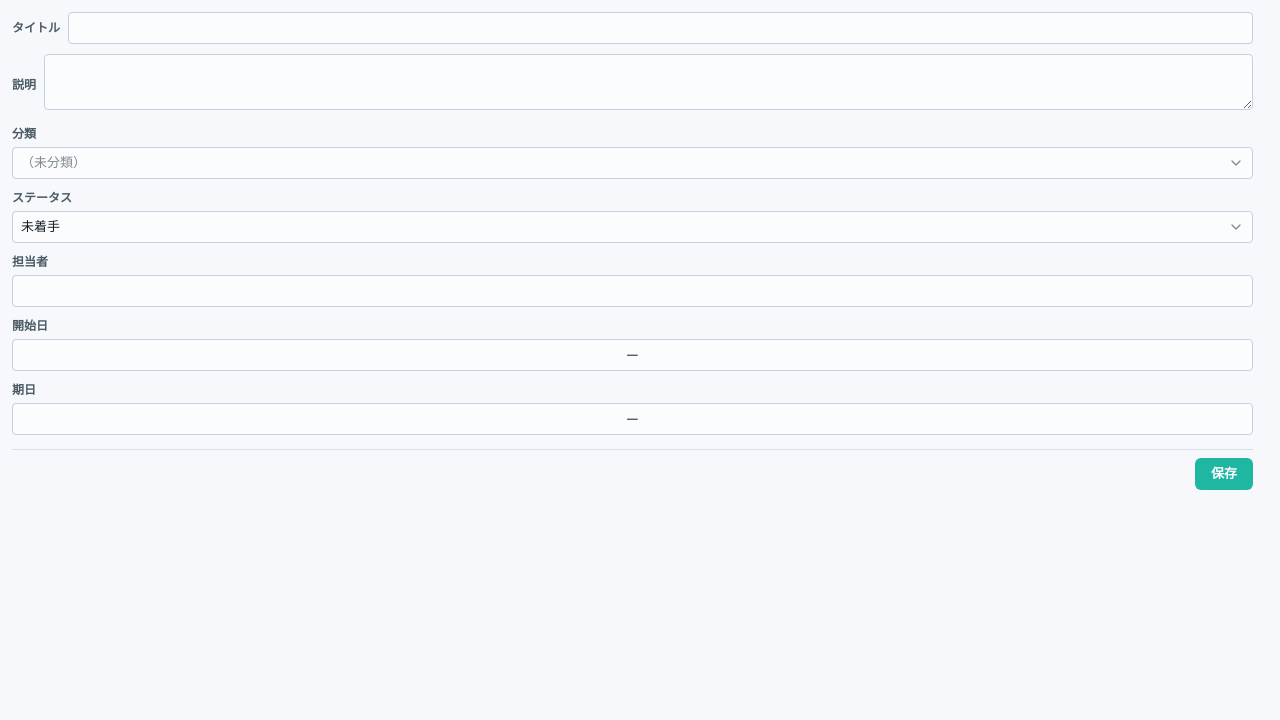
Test case: Desk の開始日・期日（1コンポーネント入力 / v2-170） › 1画面の From/To 入力が両方の行へ即反映され、クリアで両方戻ること
Click the button named "開始日" at [632, 355], box [12, 339, 1253, 371]
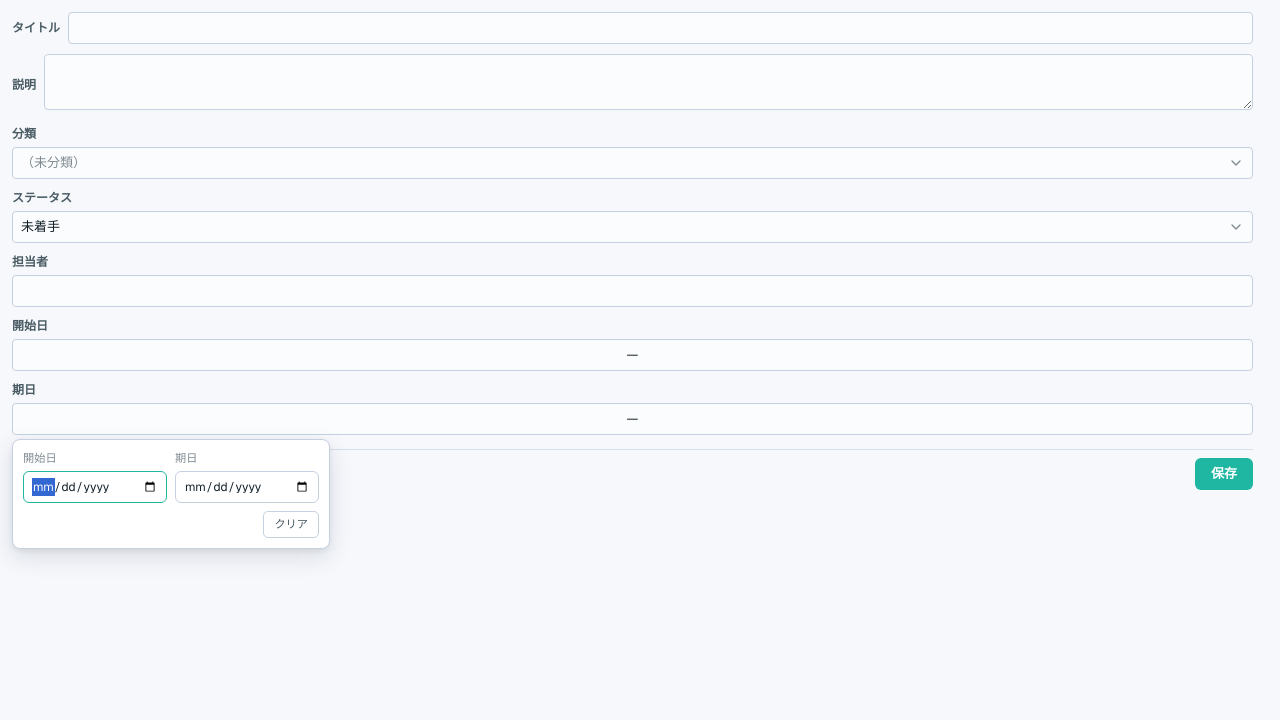
Type "2026-09-15" into the date field labelled "開始日" at [95, 487], box [23, 471, 167, 503]
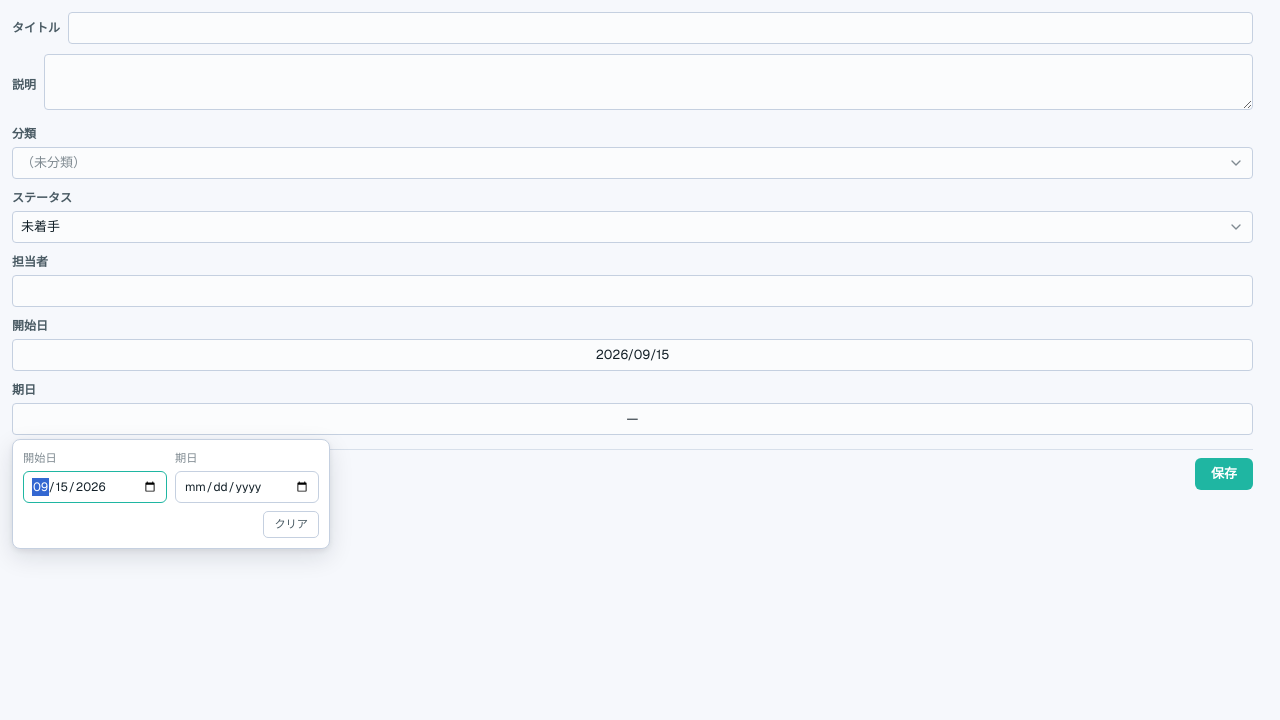
Type "2026-10-01" into the date field labelled "期日" at [247, 487], box [175, 471, 319, 503]
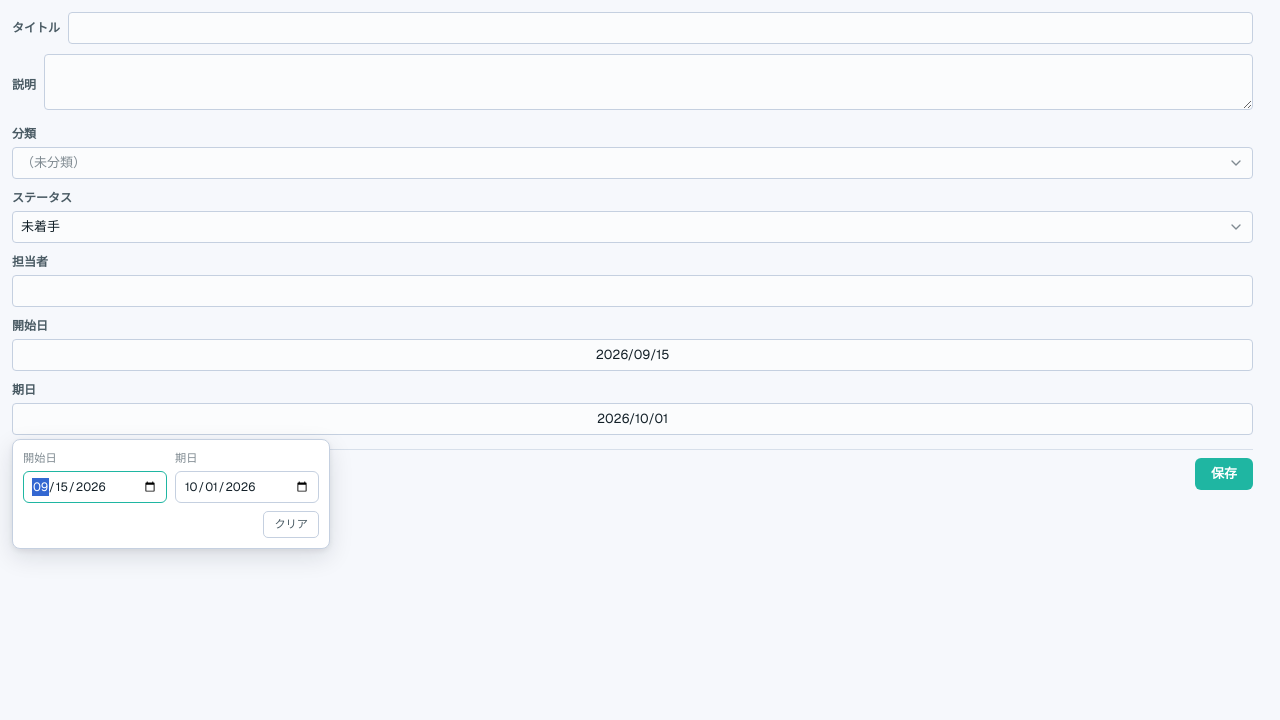
Check: the button named "開始日" reads "2026/09/15", box [12, 339, 1253, 371]
Check: the button named "期日" reads "2026/10/01", box [12, 403, 1253, 435]
Click the button "クリア" at [291, 524], box [263, 511, 319, 538]
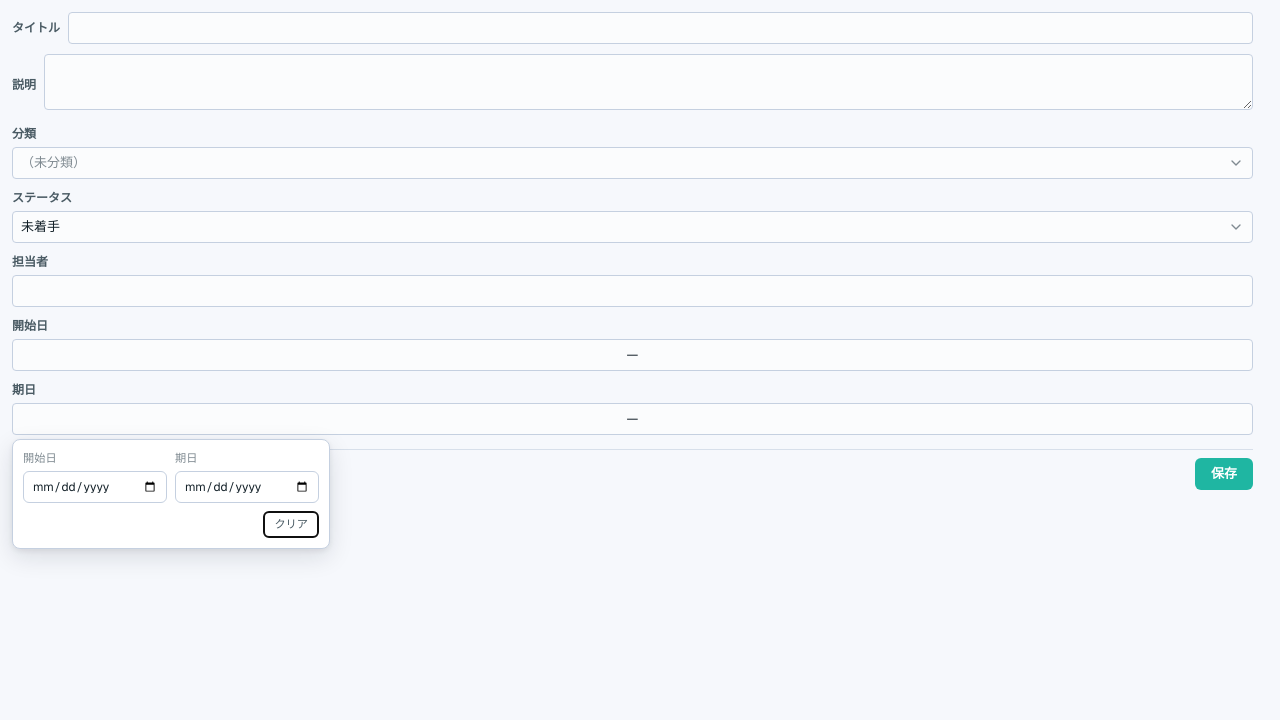
Check: the button named "開始日" reads "—", box [12, 339, 1253, 371]
Check: the button named "期日" reads "—", box [12, 403, 1253, 435]
